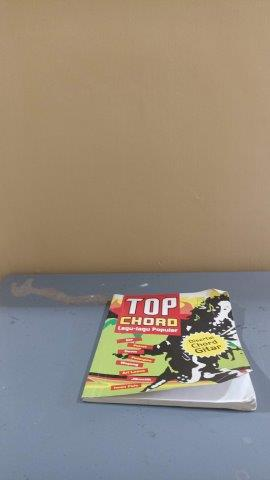kertas: (82, 288, 257, 410)
